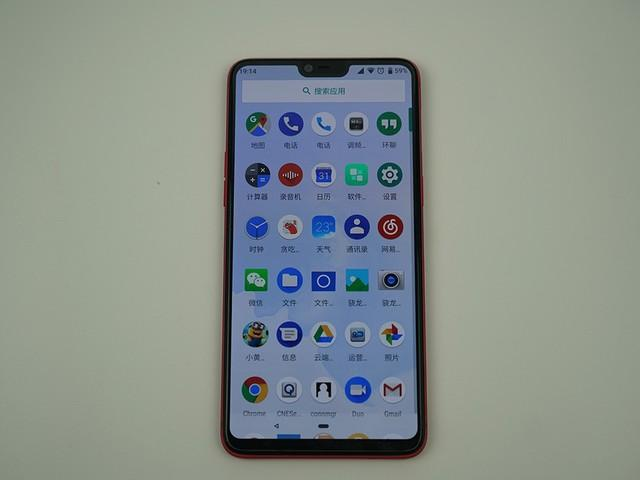phone: (222, 57, 434, 462)
